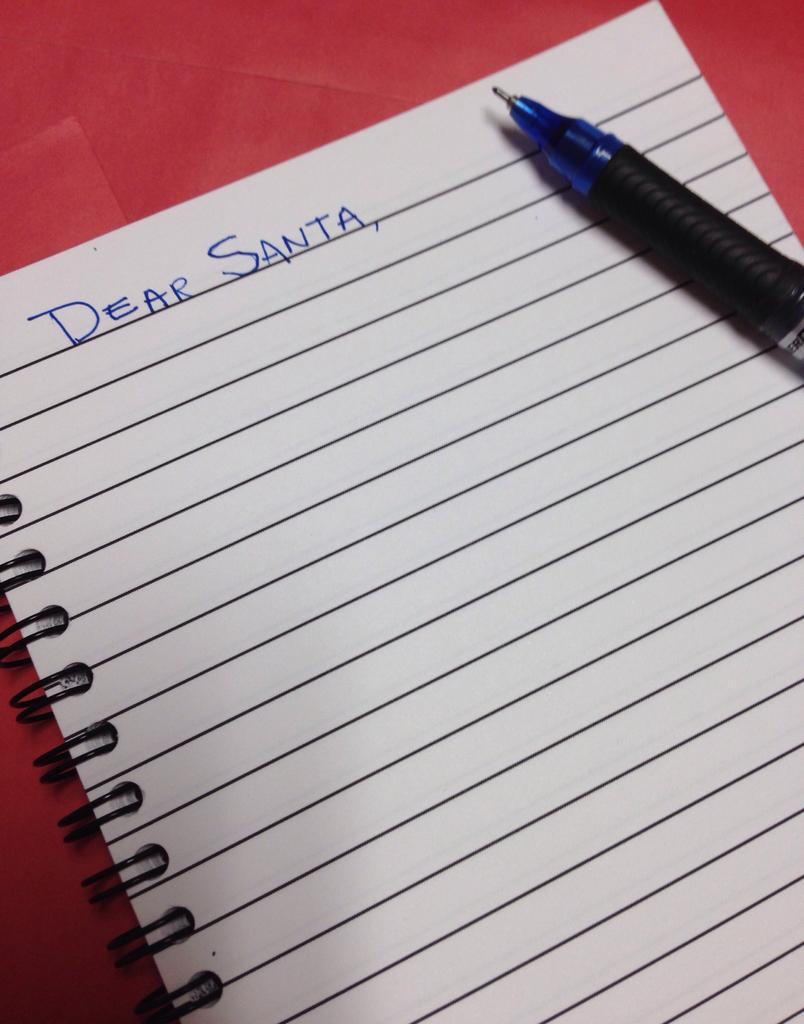pen: (506, 88, 803, 371)
